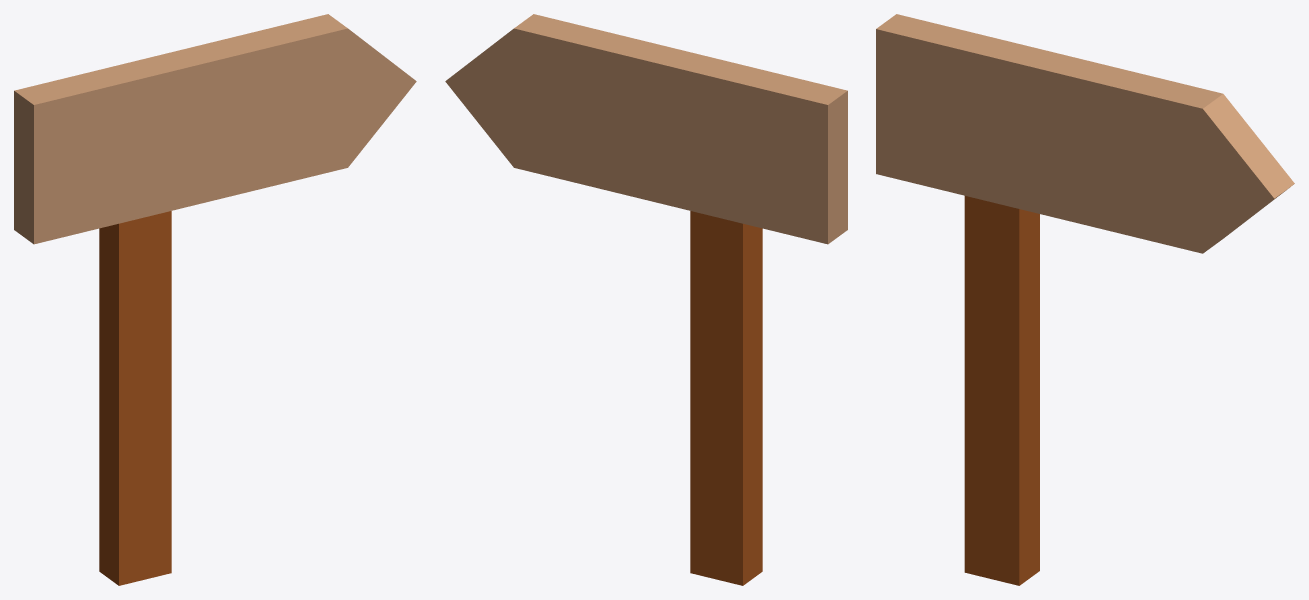
Rendered from sign.fbx.
3 renders of one model, left to right at view 1: azimuth 30°, elevation 25°; view 2: azimuth 150°, elevation 25°; view 3: azimuth 330°, elevation 25°, orthographic. The views are drawn at different scales.
Parts seen in each view (by area): view 1: Cube; view 2: Cube; view 3: Cube.
Boxes of the visible parts, x1,y1,x2,y2 form: Cube: (14,14,416,585); Cube: (445,14,847,585); Cube: (876,14,1294,585).
Bounding box in the file's own units: 270 × 338 × 24.12.
